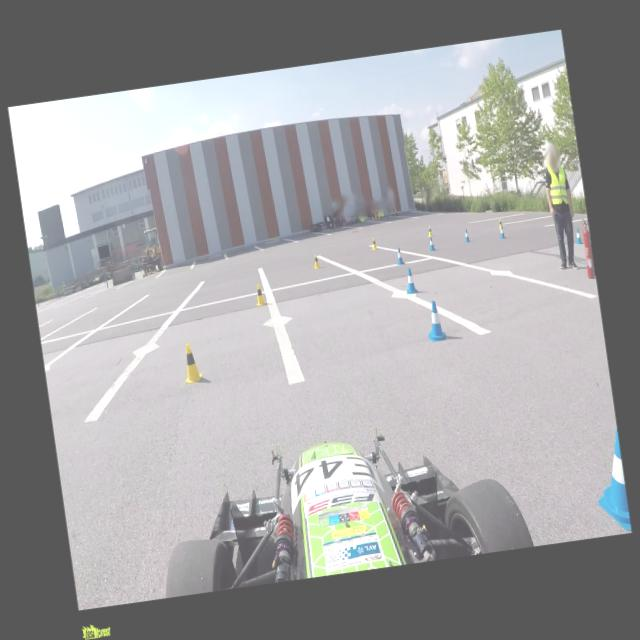blue_cone: (587, 420, 631, 535), (423, 299, 447, 342), (403, 268, 418, 294), (395, 247, 405, 266), (574, 228, 583, 244), (428, 236, 436, 251), (498, 225, 506, 240), (463, 228, 470, 243)
yellow_cone: (180, 342, 203, 383), (252, 282, 268, 306), (312, 253, 321, 270), (370, 238, 377, 250), (497, 218, 504, 230), (427, 224, 432, 237)
